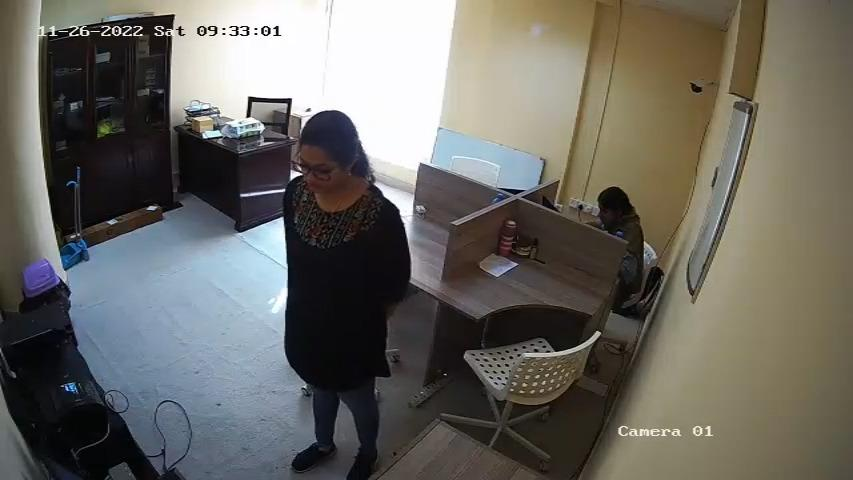no_apron: (288, 199, 383, 388)
